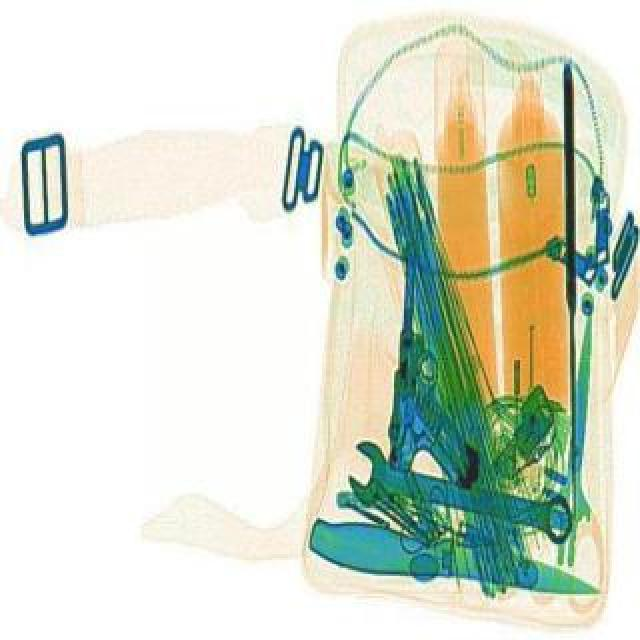gun: (382, 240, 516, 488)
knife: (310, 510, 608, 606), (558, 308, 602, 566), (564, 60, 580, 518)
scissors: (342, 432, 584, 548)
